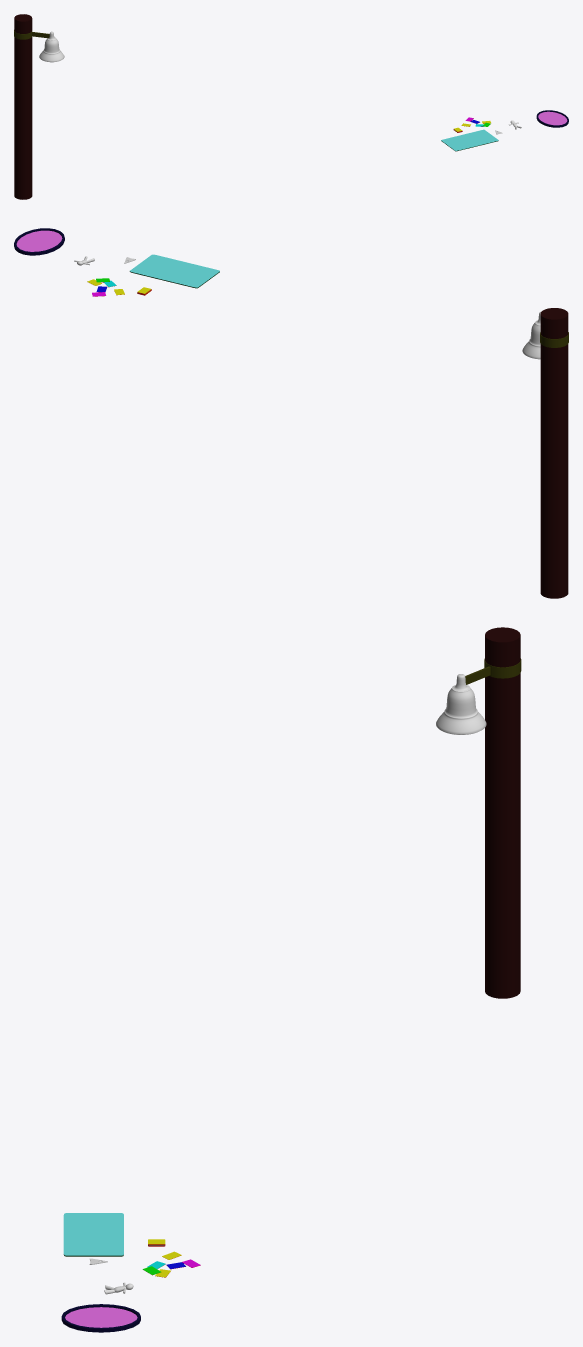
3 renders of one model, top to bottom at view 1: azimuth 30°, elevation 25°; view 2: azimuth 150°, elevation 25°; view 3: azimuth 270°, elevation 25°, orthographic. The views are drawn at different scales.
Visible parts, largest first — view 1: lightPole_low, ouijaBoard_low, lightShade_low, mirror_low; view 2: lightPole_low, ouijaBoard_low, mirror_low, lightShade_low; view 3: lightPole_low, ouijaBoard_low, mirror_low, lightShade_low.
Part boxes in pixels (x1,y1,x2,y2): lightPole_low: [14, 14, 49, 199]; ouijaBoard_low: [441, 129, 498, 151]; lightShade_low: [39, 31, 64, 62]; mirror_low: [536, 110, 568, 127]; lightPole_low: [540, 308, 568, 598]; ouijaBoard_low: [129, 254, 219, 288]; mirror_low: [14, 228, 64, 255]; lightShade_low: [522, 312, 540, 359]; lightPole_low: [465, 627, 521, 998]; ouijaBoard_low: [63, 1213, 123, 1256]; mirror_low: [61, 1304, 140, 1332]; lightShade_low: [436, 674, 486, 734].
Bounding box in the file's own units: 11.67 × 4.41 × 5.16.
